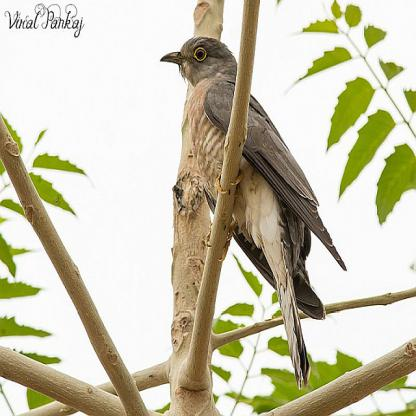Burung: (160, 36, 346, 390)
